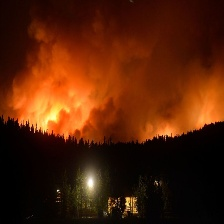smoke: (11, 25, 224, 124)
